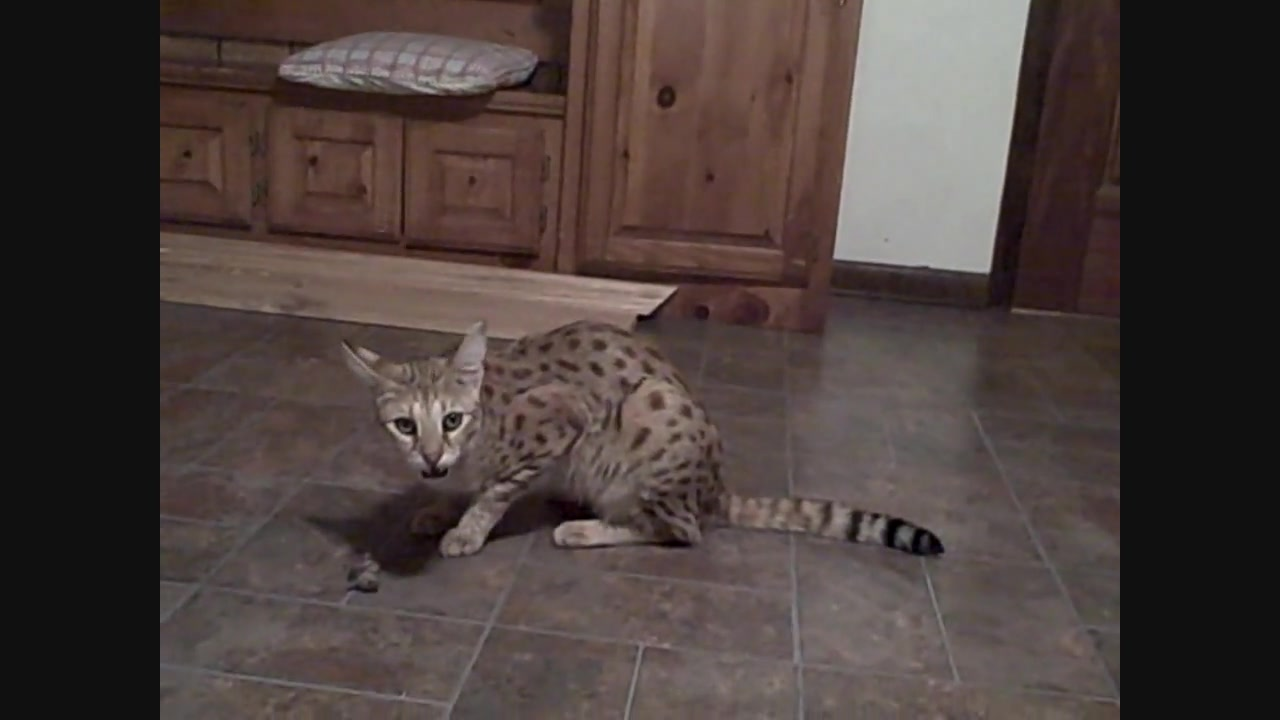cat: (337, 317, 949, 565)
